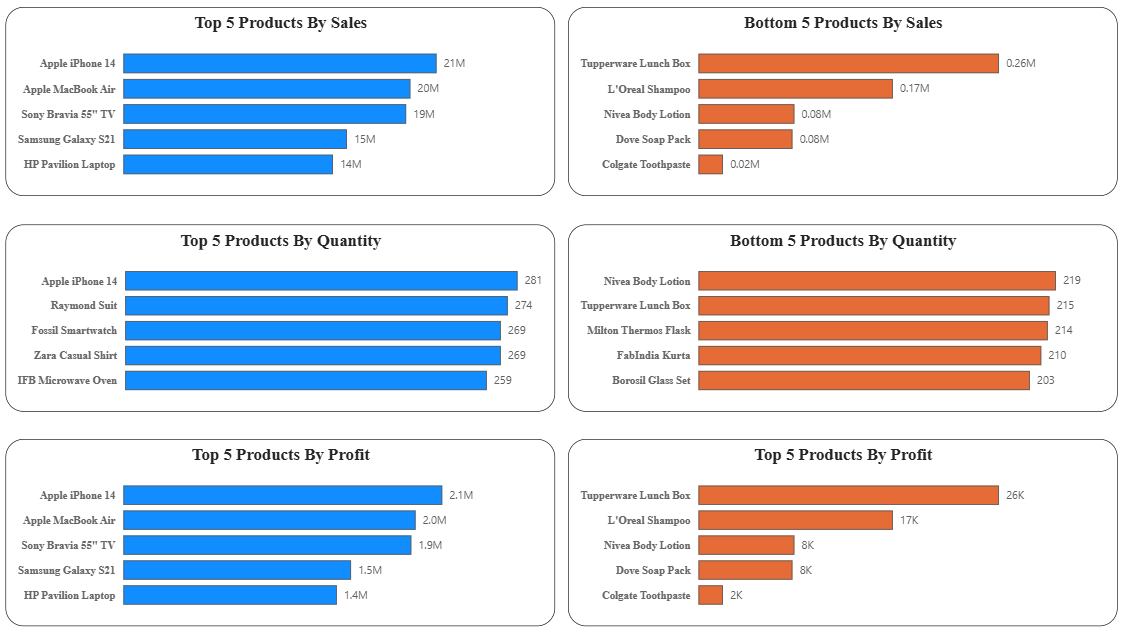

The page's visual inventory and layout, read from the dashboard file:
{"tool":"powerbi","page":{"name":"Top/Bottom Products by Sales/QuantitySold/Profit","canvas":[1280,720],"ordinal":0},"visuals":[{"type":"barChart","title":"Top 5 Products By Sales","fields":{"Category":["Dim Product.Product Name"],"Y":["Sum(Fact Table.Net Sales )"]},"box":[15.1,13.2,610.4,209.8],"z":0},{"type":"barChart","title":"Bottom 5 Products By Sales","fields":{"Category":["Dim Product.Product Name"],"Y":["Sum(Fact Table.Net Sales )"]},"box":[640.6,13.2,610.4,209.8],"z":1000},{"type":"barChart","title":"Top 5 Products By Quantity","fields":{"Category":["Dim Product.Product Name"],"Y":["Sum(Fact Table.Units Sold)"]},"box":[15.1,254.2,610.4,207.9],"z":2000},{"type":"barChart","title":"Bottom 5 Products By Quantity","fields":{"Category":["Dim Product.Product Name"],"Y":["Sum(Fact Table.Units Sold)"]},"box":[640.6,254.2,610.4,207.9],"z":3000},{"type":"barChart","title":"Top 5 Products By Profit","fields":{"Category":["Dim Product.Product Name"],"Y":["Sum(Fact Table.Profit)"]},"box":[15.1,493.2,610.4,207.9],"z":4000},{"type":"barChart","title":"Top 5 Products By Profit","fields":{"Category":["Dim Product.Product Name"],"Y":["Sum(Fact Table.Profit)"]},"box":[640.6,493.2,610.4,207.9],"z":5000}]}

Visuals, with their boxes in screenshot pixels (x1, y1, x2, y2), scaled from the page's 1280x720 canvas onto the 1125x633 screenshot:
"Top 5 Products By Sales" barChart: [left=13, top=12, right=550, bottom=196]
"Bottom 5 Products By Sales" barChart: [left=563, top=12, right=1100, bottom=196]
"Top 5 Products By Quantity" barChart: [left=13, top=223, right=550, bottom=406]
"Bottom 5 Products By Quantity" barChart: [left=563, top=223, right=1100, bottom=406]
"Top 5 Products By Profit" barChart: [left=13, top=434, right=550, bottom=616]
"Top 5 Products By Profit" barChart: [left=563, top=434, right=1100, bottom=616]
